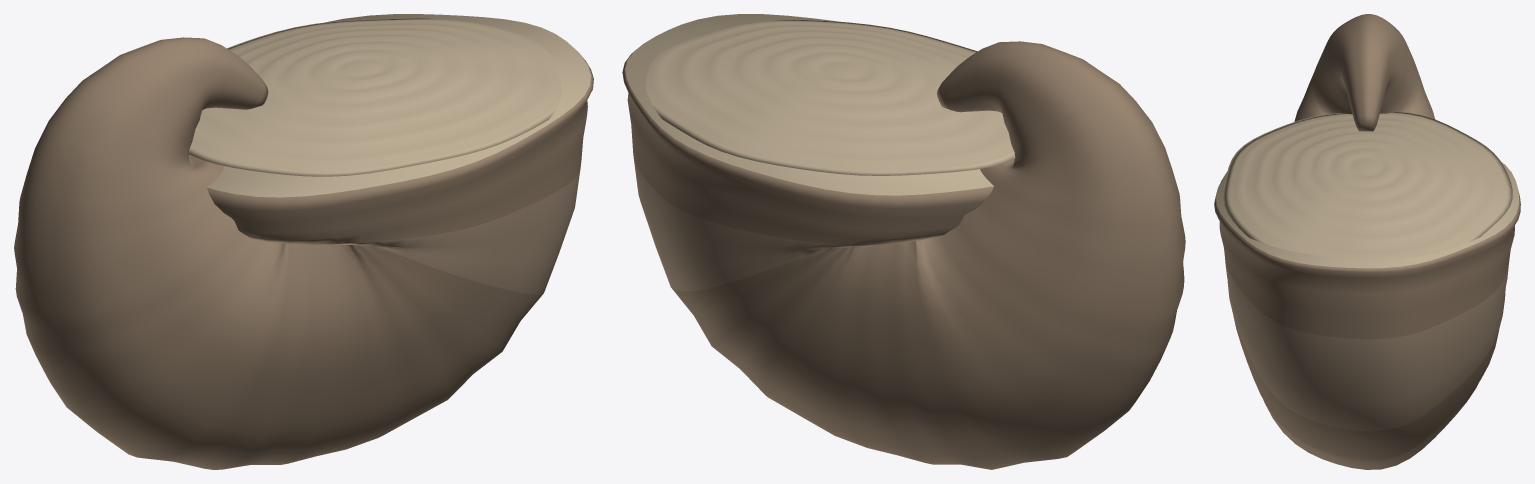
The model's file is gryphaea.glb.
The picture shows the model from 3 angles, left to right: view 1: azimuth 30°, elevation 25°; view 2: azimuth 150°, elevation 25°; view 3: azimuth 270°, elevation 25°; orthographic projection. The views are drawn at different scales.
Parts seen in each view (by area): view 1: Deep hooked lower valve, Flatter upper right lid; view 2: Deep hooked lower valve, Flatter upper right lid; view 3: Deep hooked lower valve, Flatter upper right lid.
Boxes of the visible parts, left/top/right/bottom form: Deep hooked lower valve: left=14, top=14, right=593, bottom=469; Flatter upper right lid: left=189, top=18, right=561, bottom=176; Deep hooked lower valve: left=622, top=14, right=1185, bottom=469; Flatter upper right lid: left=645, top=19, right=1015, bottom=175; Deep hooked lower valve: left=1214, top=14, right=1520, bottom=469; Flatter upper right lid: left=1223, top=111, right=1512, bottom=260.
Bounding box in the file's own units: 0.09 × 0.0692 × 0.0524.
